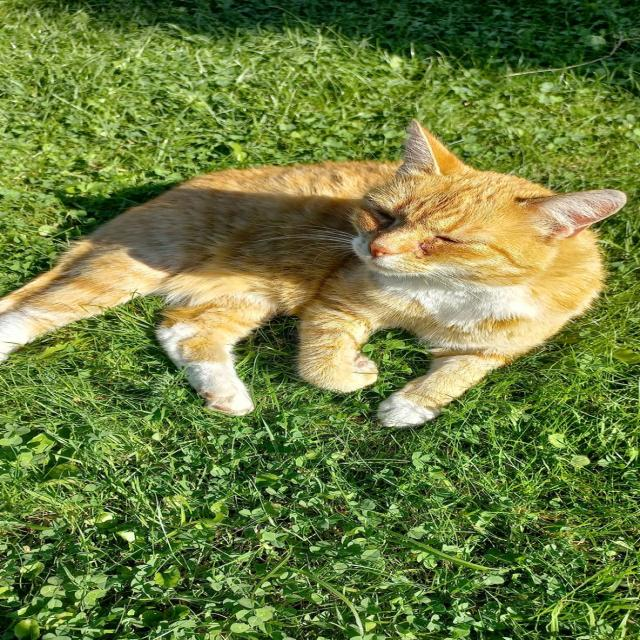sarman: (0, 71, 640, 573)
